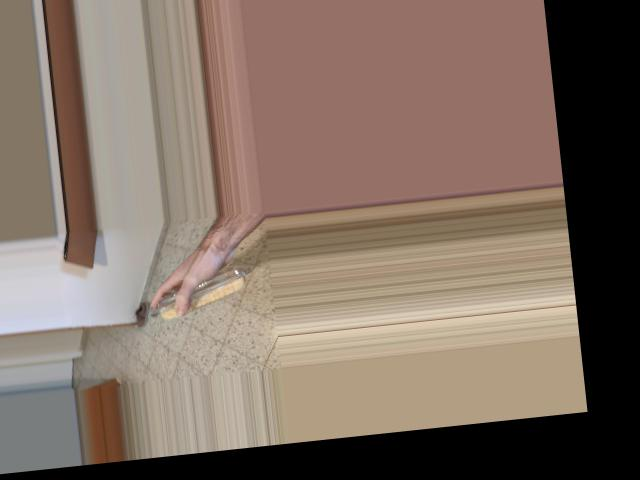cheese: (139, 244, 240, 333)
